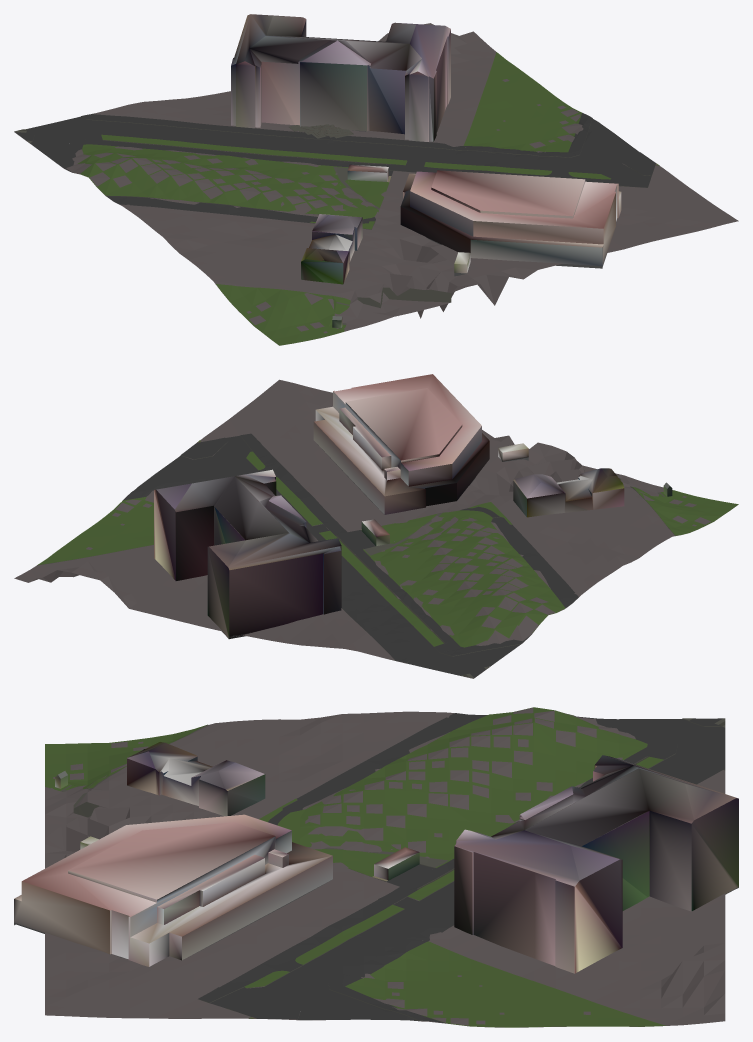
3 renders of one model, top to bottom at view 1: azimuth 30°, elevation 25°; view 2: azimuth 150°, elevation 25°; view 3: azimuth 270°, elevation 25°, orthographic. The views are drawn at different scales.
Parts seen in each view (by area): view 1: c_m05_m12; view 2: c_m05_m12; view 3: c_m05_m12.
Boxes of the visible parts, bbox=[...] form: c_m05_m12: bbox=[14, 14, 738, 345]; c_m05_m12: bbox=[14, 374, 738, 678]; c_m05_m12: bbox=[14, 707, 738, 1027].
Size of the model in its own units: 128 by 30.29 by 136.
